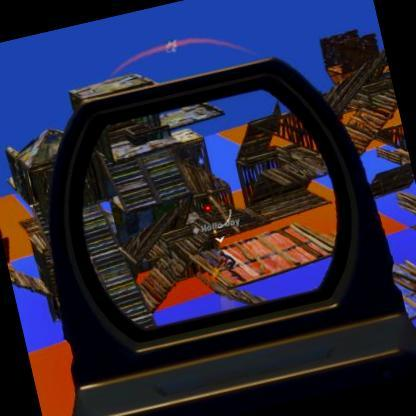person: (217, 247, 239, 279)
